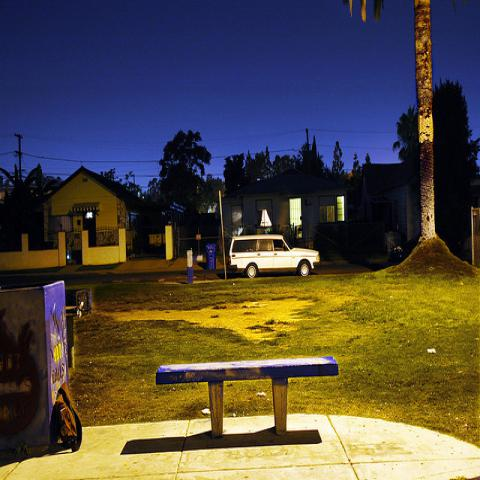car: (230, 235, 320, 278)
